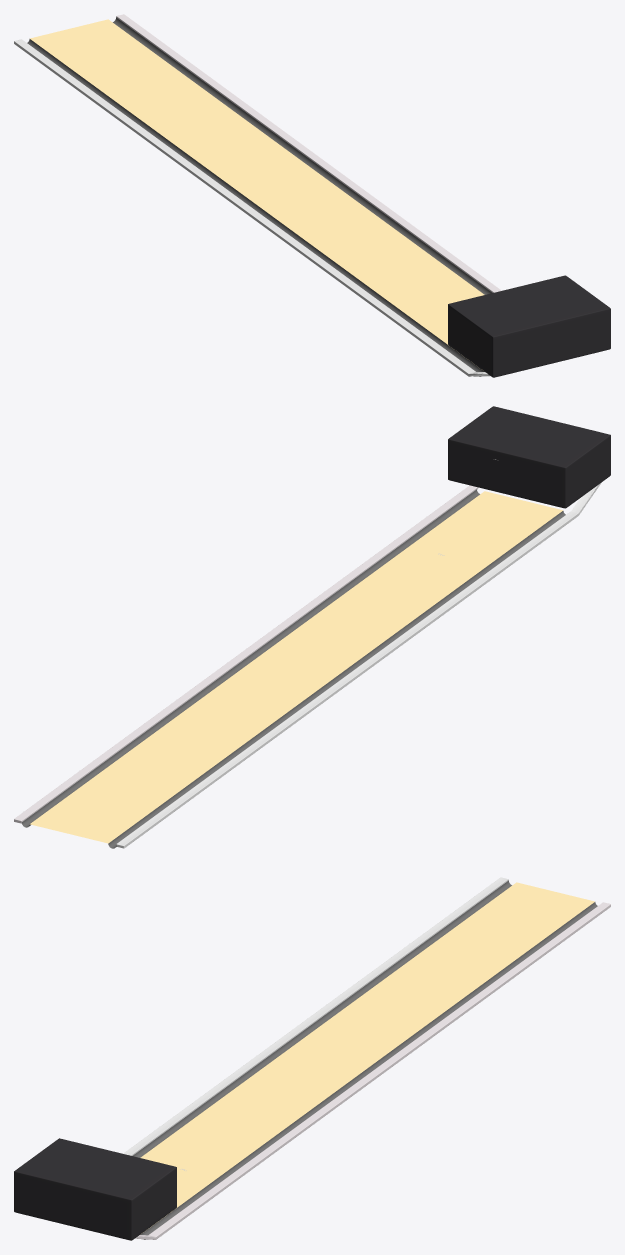
File: bowlinglane.fbx
3 renders of one model, top to bottom at view 1: azimuth 30°, elevation 25°; view 2: azimuth 150°, elevation 25°; view 3: azimuth 330°, elevation 25°, orthographic.
Parts seen in each view (by area): view 1: Plane, Cube.002, Cylinder, Cube, Cube.001; view 2: Plane, Cube.002, Cylinder, Cube, Cube.001; view 3: Plane, Cube.002, Cylinder, Cube.001, Cube.
Boxes of the visible parts, x1=… form: Plane: x1=30, y1=19, x2=484, y2=345; Cube.002: x1=448, y1=275, x2=610, y2=377; Cylinder: x1=27, y1=17, x2=491, y2=376; Cube: x1=14, y1=39, x2=490, y2=376; Cube.001: x1=116, y1=14, x2=501, y2=292; Plane: x1=30, y1=491, x2=562, y2=843; Cube.002: x1=448, y1=406, x2=610, y2=508; Cylinder: x1=21, y1=489, x2=565, y2=848; Cube: x1=116, y1=482, x2=601, y2=848; Cube.001: x1=14, y1=485, x2=478, y2=823; Plane: x1=140, y1=882, x2=594, y2=1233; Cube.002: x1=14, y1=1138, x2=176, y2=1240; Cylinder: x1=133, y1=880, x2=597, y2=1239; Cube.001: x1=135, y1=902, x2=610, y2=1239; Cube: x1=123, y1=877, x2=508, y2=1155.
Size of the model in its own units: 30 by 15.54 by 212.
